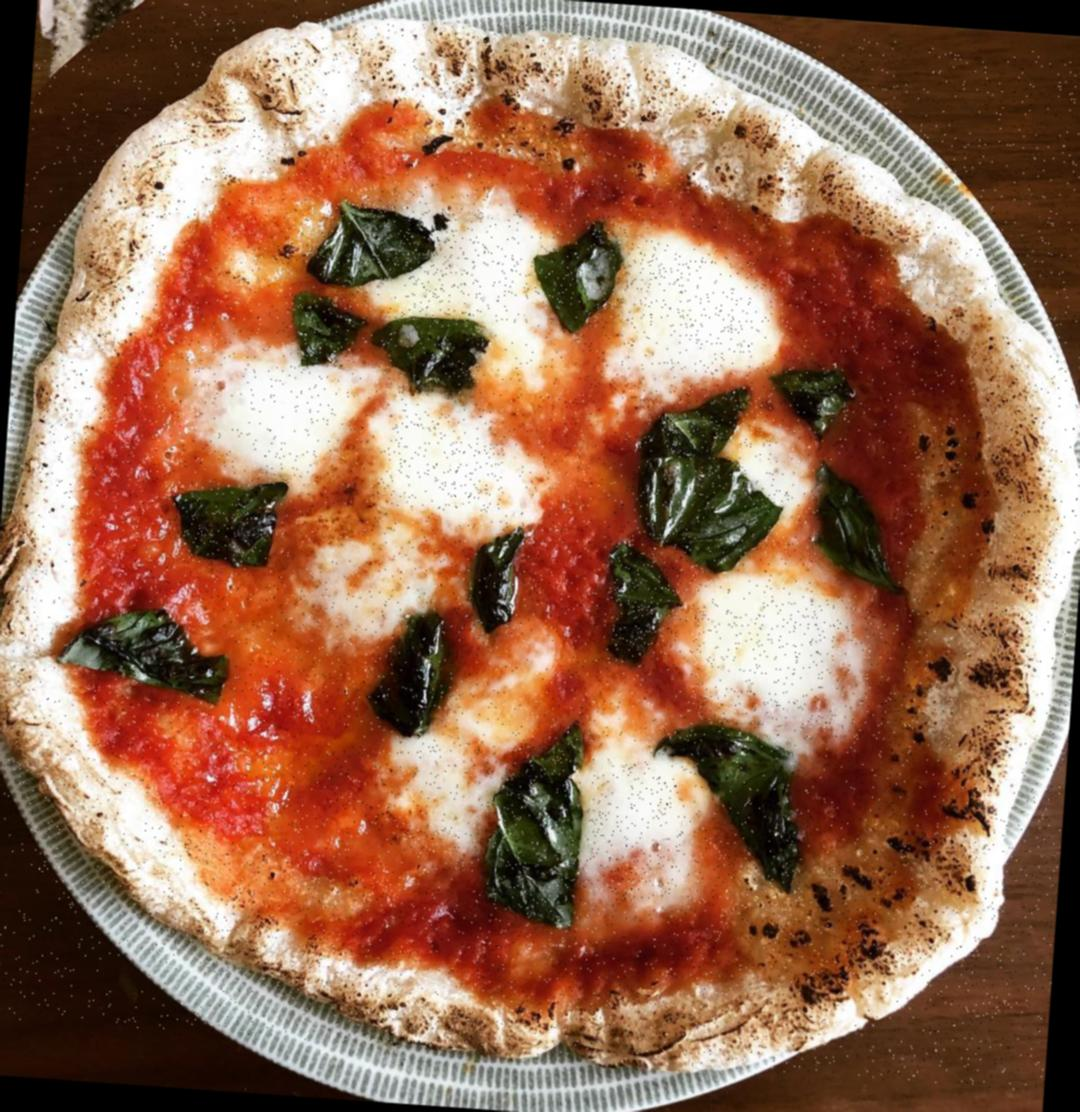Basil: (638, 390, 780, 560), (667, 729, 809, 888), (54, 598, 237, 696), (494, 743, 583, 915), (813, 460, 900, 599), (526, 218, 631, 330), (602, 546, 684, 662), (378, 314, 486, 394), (172, 481, 272, 564), (320, 201, 435, 272), (471, 521, 532, 636), (388, 615, 450, 719), (282, 294, 357, 362), (780, 361, 855, 428)
Cheese: (687, 588, 855, 734), (620, 243, 758, 376), (216, 360, 340, 481), (582, 757, 686, 901), (401, 207, 521, 324), (384, 410, 506, 514), (410, 740, 506, 846)
Pizza: (0, 0, 1080, 1091)
